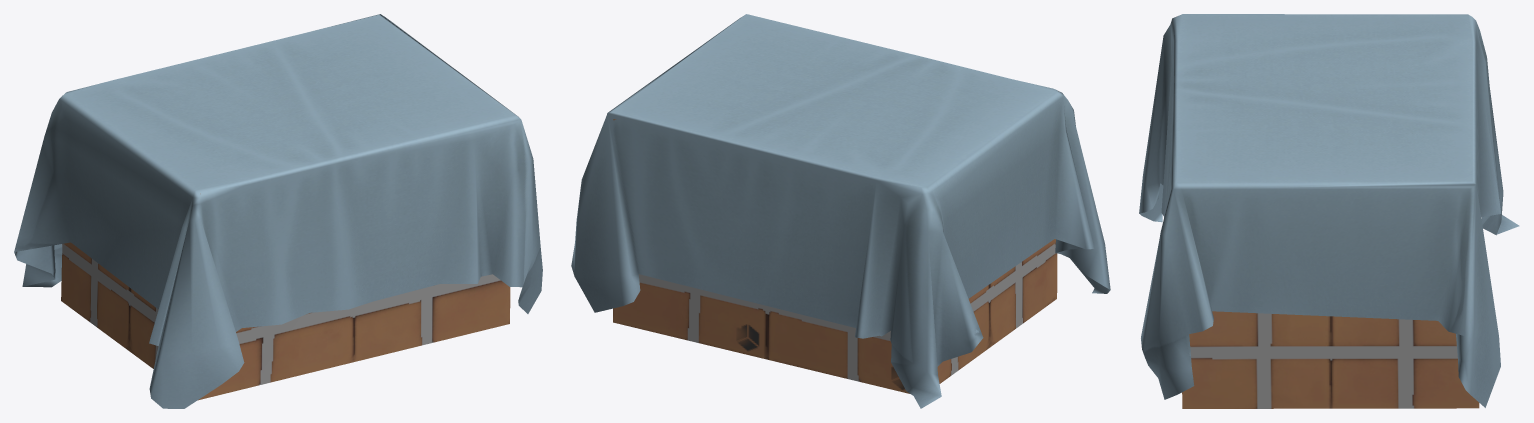
Rendered from Pfb_Box_GRP__17.fbx.
3 renders of one model, left to right at view 1: azimuth 30°, elevation 25°; view 2: azimuth 150°, elevation 25°; view 3: azimuth 270°, elevation 25°, orthographic. The views are drawn at different scales.
Visible parts, largest first — view 1: MAT_Canvas_01_Blue, Mat_BoxGroup_01_Gray; view 2: MAT_Canvas_01_Blue, Mat_BoxGroup_01_Gray; view 3: MAT_Canvas_01_Blue, Mat_BoxGroup_01_Gray.
Boxes of the visible parts, <box> form: MAT_Canvas_01_Blue: <box>14,14,542,408</box>; Mat_BoxGroup_01_Gray: <box>61,193,510,400</box>; MAT_Canvas_01_Blue: <box>571,14,1110,408</box>; Mat_BoxGroup_01_Gray: <box>613,91,1058,393</box>; MAT_Canvas_01_Blue: <box>1139,14,1519,407</box>; Mat_BoxGroup_01_Gray: <box>1176,16,1479,408</box>.
Size of the model in its own units: 2.45 by 1.19 by 1.79.
Materials: 2 (2 with a texture image).
